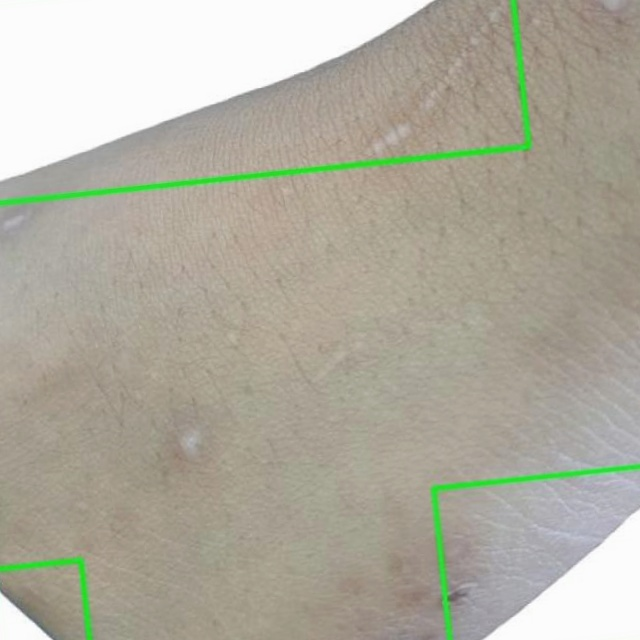Scabies: (0, 0, 529, 202), (432, 467, 639, 639)
